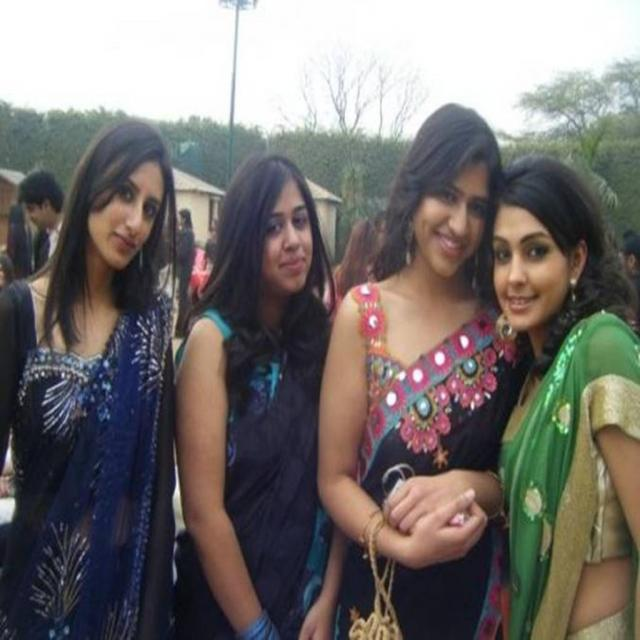nomask: (413, 162, 491, 277), (494, 214, 568, 330), (88, 168, 166, 268), (253, 190, 313, 290), (25, 195, 53, 227), (618, 250, 633, 282), (178, 214, 184, 222)
